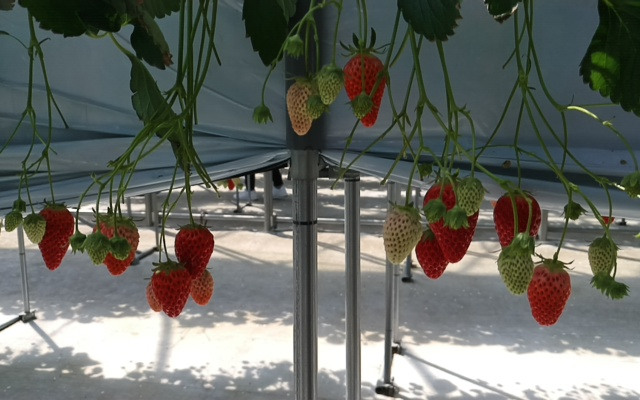GreenStrawberry: (382, 203, 425, 267), (284, 75, 321, 137), (496, 244, 535, 297), (585, 235, 619, 285), (455, 174, 486, 218), (316, 63, 344, 106), (22, 213, 48, 246), (85, 233, 109, 268), (352, 93, 374, 120), (3, 209, 24, 235), (109, 237, 130, 262), (306, 95, 325, 119)
MatureStrawberry: (424, 174, 481, 264), (341, 46, 388, 128), (493, 186, 543, 262), (525, 258, 573, 327), (91, 213, 139, 278), (34, 200, 74, 272), (173, 222, 216, 282), (413, 219, 453, 280), (152, 261, 191, 319), (186, 263, 216, 309), (145, 277, 168, 314)
